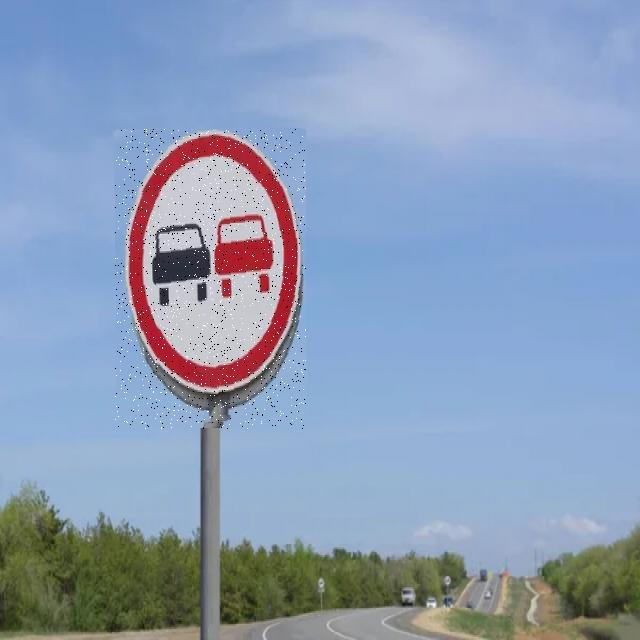no overtaking: (115, 129, 306, 429)
